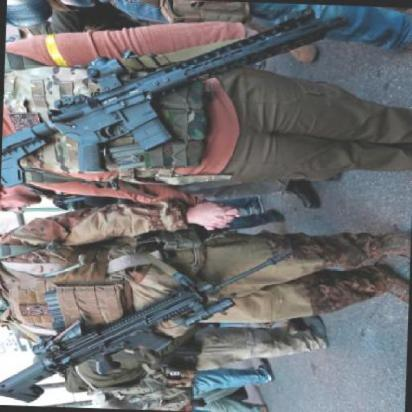Gun: (8, 0, 344, 199), (3, 237, 293, 412)
